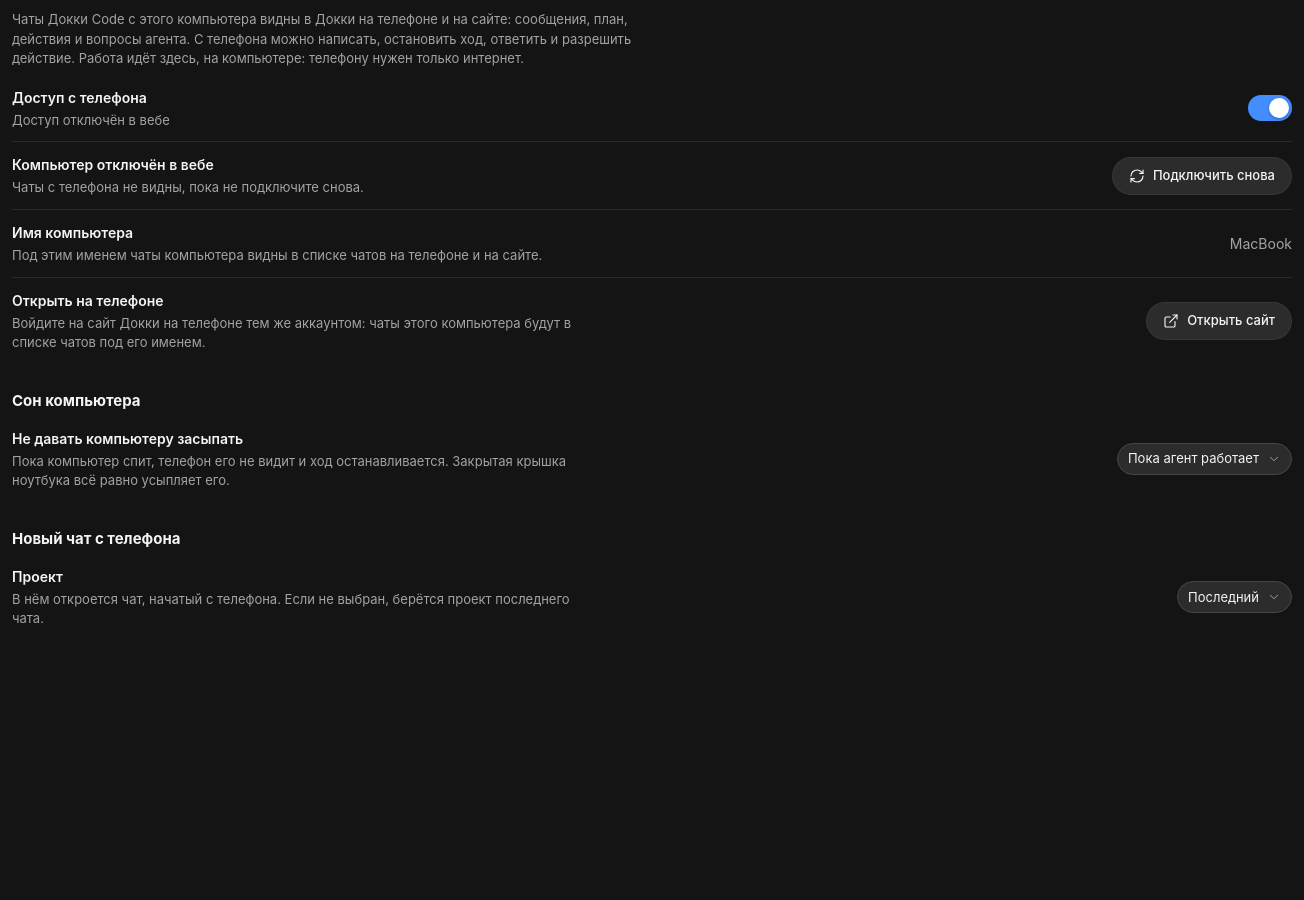
Test: доступ с телефона › после отзыва в вебе предлагает подключить снова
What coordinates should you click on to do the following:
click the button "Подключить снова"
I would click on:
 (1202, 176)
Its box is [1112, 157, 1292, 195].
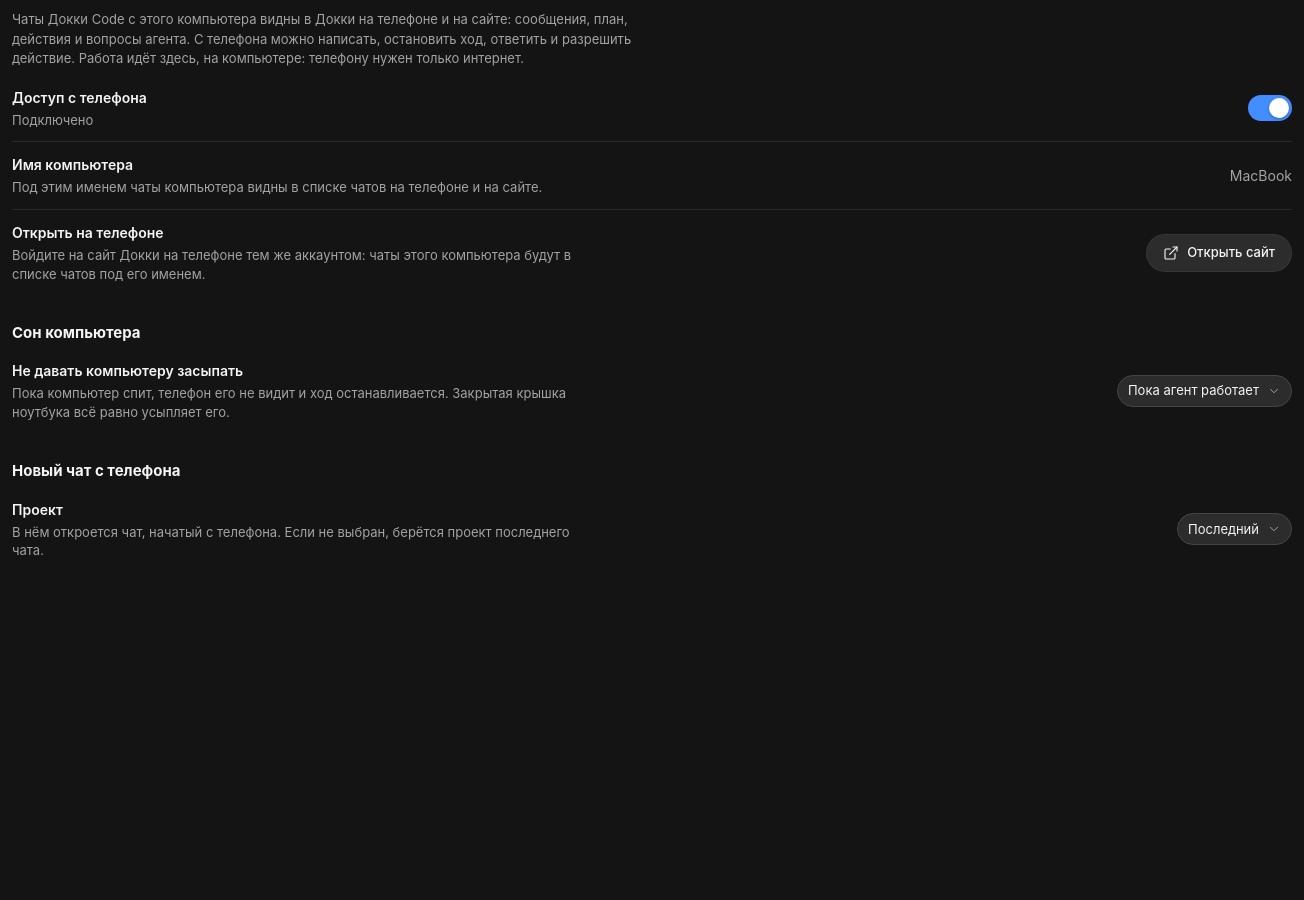
Check: the text "MacBook" is shown, box [1230, 165, 1292, 186]
Check: the button "Подключить снова" is gone
